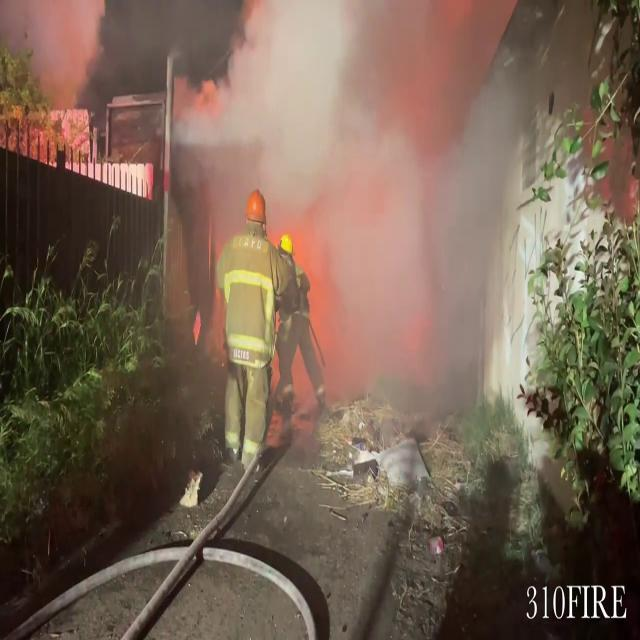Smoke: (198, 0, 600, 513)
